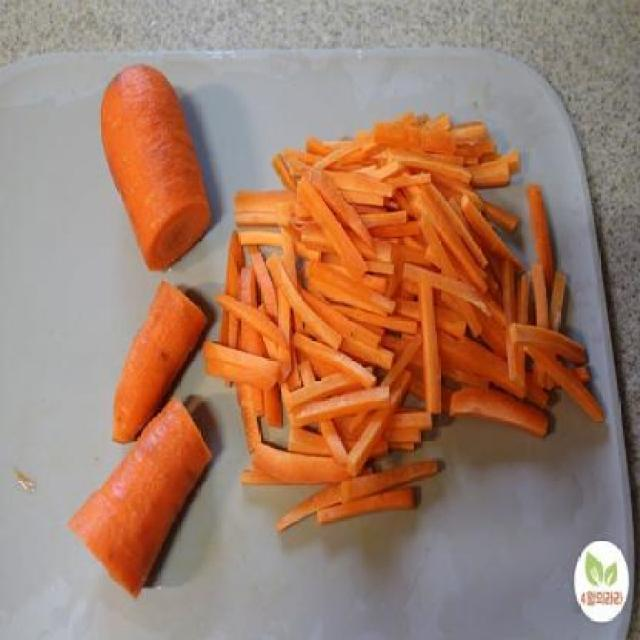carrot: (67, 394, 215, 610), (98, 57, 217, 276), (108, 284, 212, 439)
